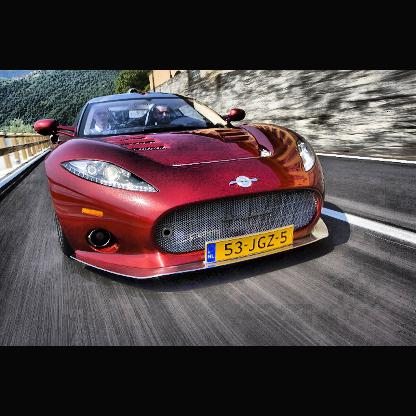Spyker C8 Coupe 2009: (33, 85, 326, 295)
